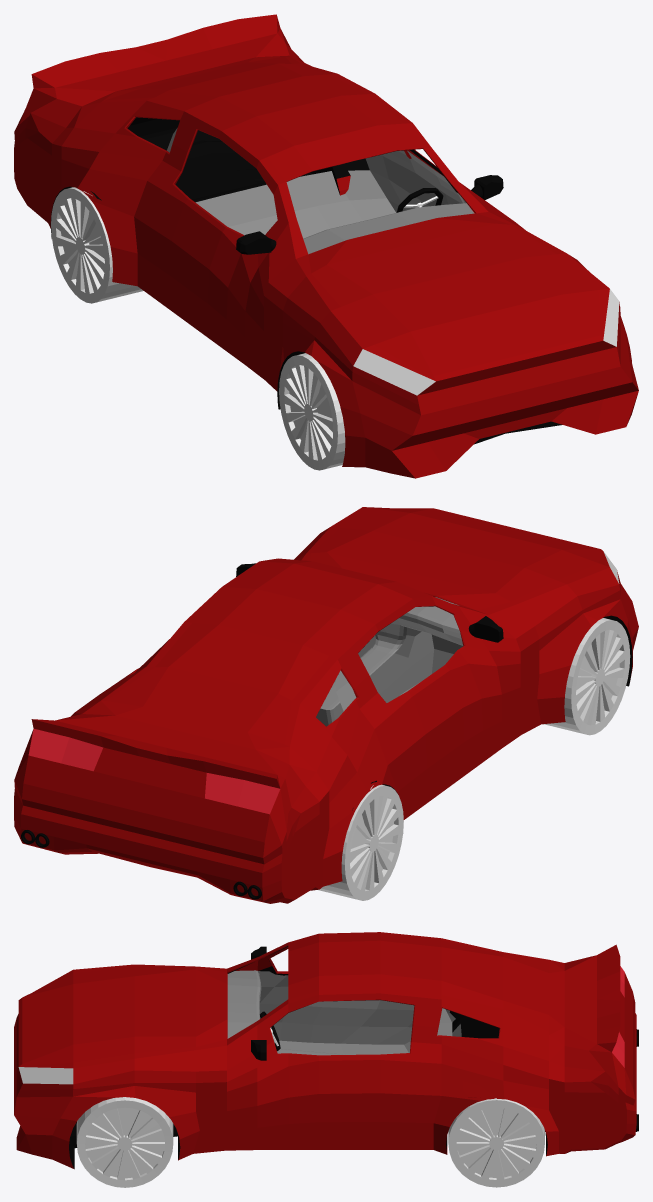
Rendered from DrunkDriverCarModel (1).fbx.
The picture shows the model from 3 angles, top to bottom: view 1: azimuth 30°, elevation 25°; view 2: azimuth 150°, elevation 25°; view 3: azimuth 270°, elevation 25°; orthographic projection. The views are drawn at different scales.
Parts seen in each view (by area): view 1: CarBody, Interior, Wheels.003, Wheels.002; view 2: CarBody, Interior, Wheels.003, Wheels.002; view 3: CarBody, Interior, Wheels, Wheels.001.
Boxes of the visible parts, x1,y1,x2,y2 form: CarBody: [14, 14, 638, 478]; Interior: [167, 128, 474, 254]; Wheels.003: [279, 353, 345, 470]; Wheels.002: [51, 187, 143, 303]; CarBody: [14, 507, 638, 903]; Interior: [316, 597, 463, 726]; Wheels.003: [544, 618, 630, 735]; Wheels.002: [318, 784, 403, 900]; CarBody: [14, 932, 638, 1169]; Interior: [227, 970, 461, 1055]; Wheels: [76, 1097, 173, 1187]; Wheels.001: [448, 1098, 544, 1187].
Size of the model in its own units: 329 by 225 by 740.
